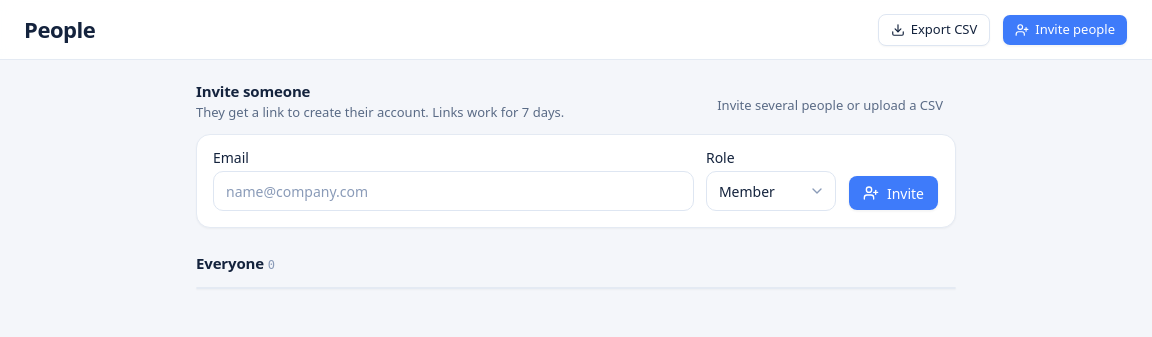
invites › explains a cooldown after a decline
Type "no@x.io" into the field labelled "Email".
click(453, 191); type("no@x.io")  # box [213, 171, 694, 211]
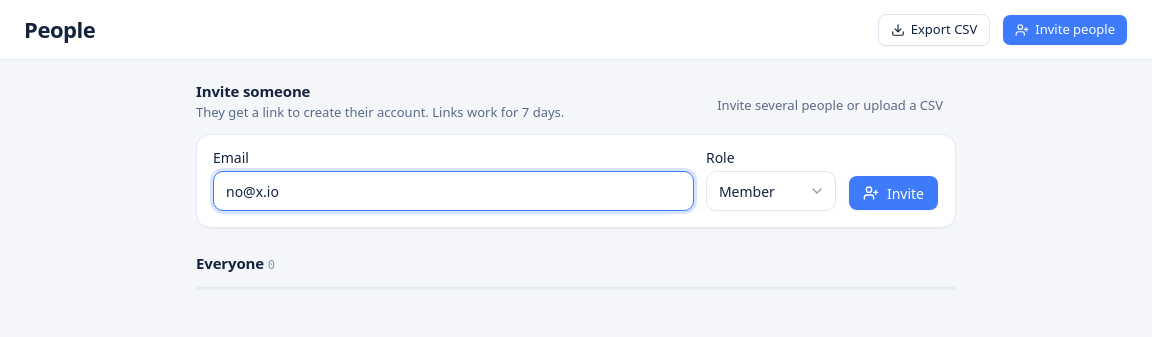
Click the button "Invite".
click(893, 193)  # box [848, 175, 939, 211]
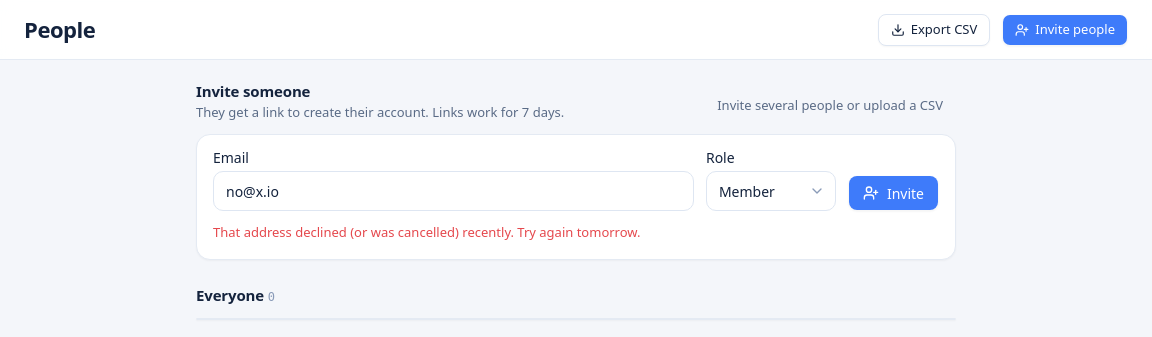
Expected: the message shows "declined", [213, 223, 640, 241]
